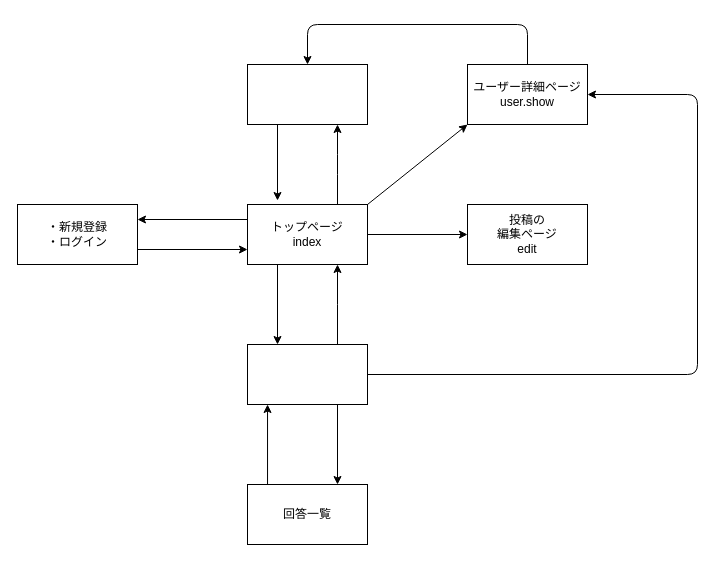
Image size: 723x562. Some labels were removed from this diagram. The box of each missing label's shape, as (x1, y1, x2, y2) in pixels:
投稿の 詳細ページ show: (246, 344, 368, 404)
新規質問ページ new: (246, 64, 368, 124)
